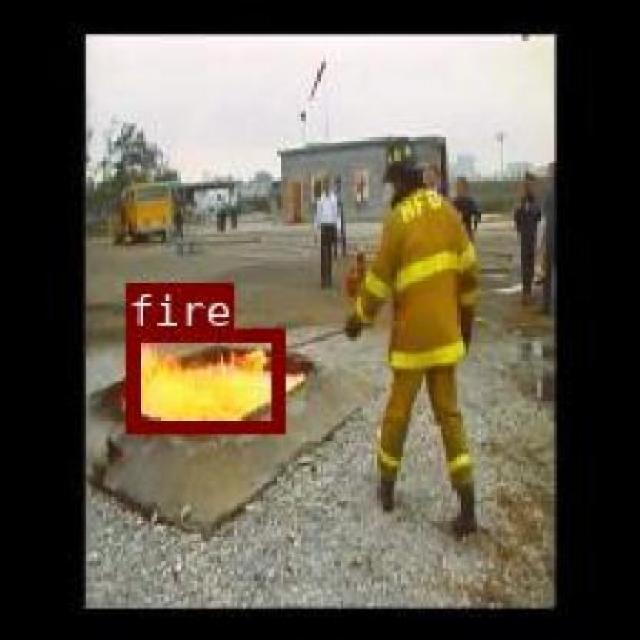Fire: (124, 326, 282, 429)
